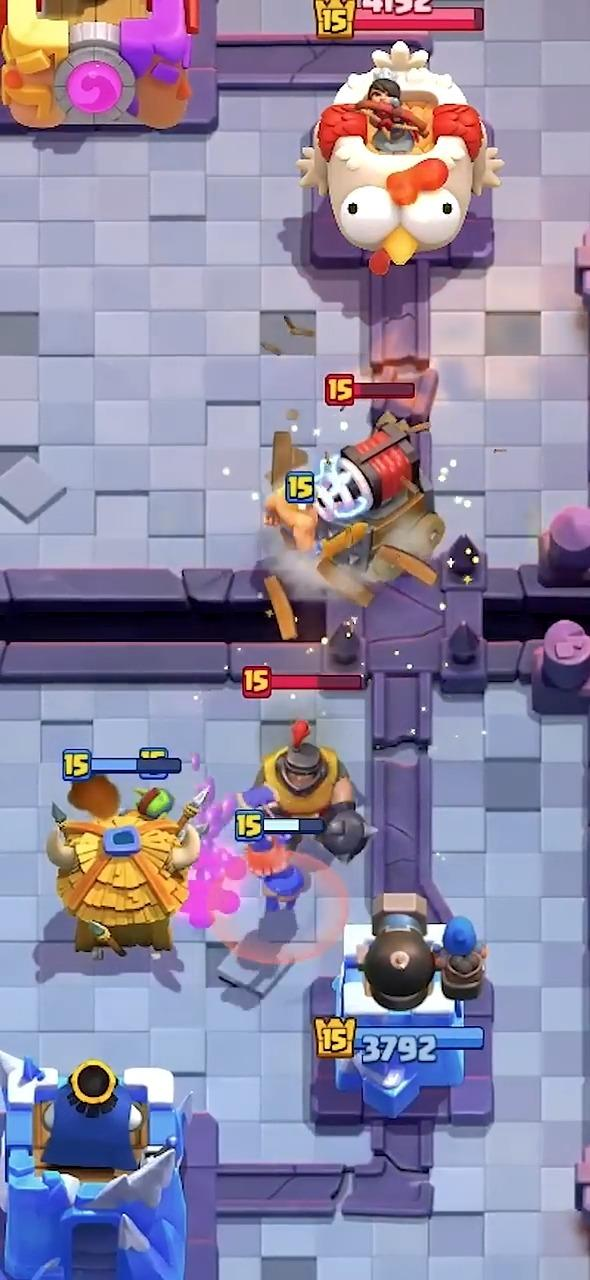barbarian: (264, 489, 317, 550)
goblin hut: (46, 776, 207, 954)
mega knight: (256, 721, 368, 861)
sparky: (315, 418, 444, 581)
valkyrie: (247, 836, 304, 916)
